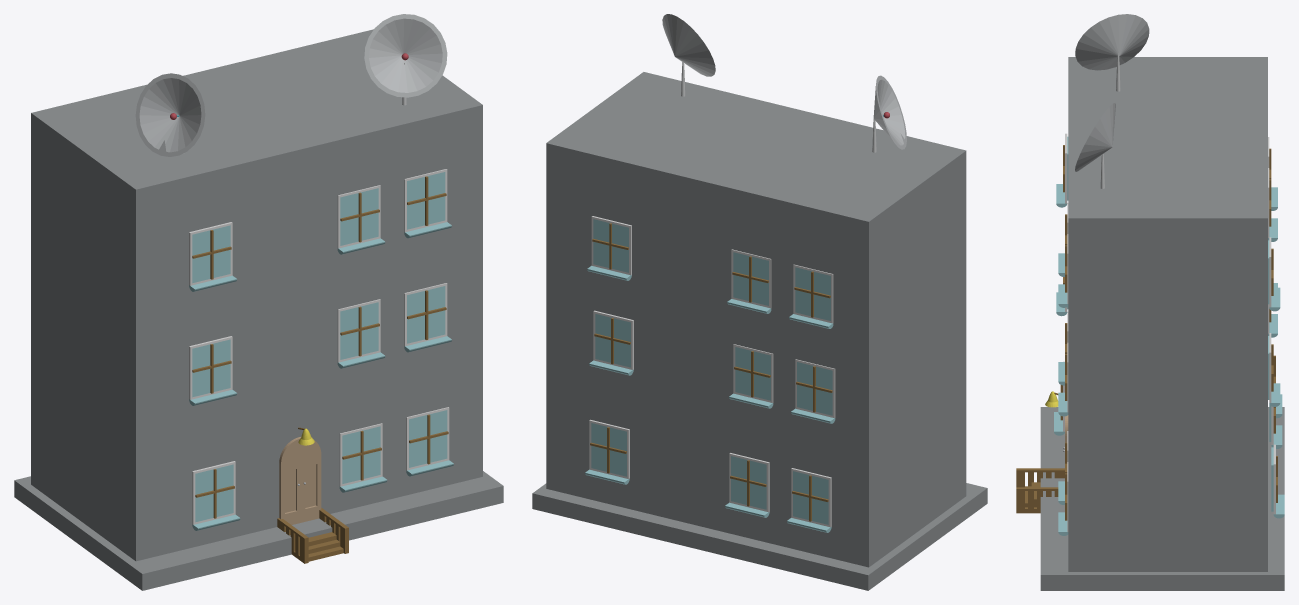
Rendered from Buliding ma.glb.
3 renders of one model, left to right at view 1: azimuth 30°, elevation 25°; view 2: azimuth 150°, elevation 25°; view 3: azimuth 270°, elevation 25°, orthographic. The views are drawn at different scales.
Parts seen in each view (by area): view 1: Mesh_Mesh_head_geo.001_lambert2SG.001; view 2: Mesh_Mesh_head_geo.001_lambert2SG.001; view 3: Mesh_Mesh_head_geo.001_lambert2SG.001.
Boxes of the visible parts, bbox=[...] form: Mesh_Mesh_head_geo.001_lambert2SG.001: bbox=[14, 14, 503, 590]; Mesh_Mesh_head_geo.001_lambert2SG.001: bbox=[532, 14, 987, 590]; Mesh_Mesh_head_geo.001_lambert2SG.001: bbox=[1016, 14, 1284, 590].
Bounding box in the file's own units: 179 × 226 × 121.
